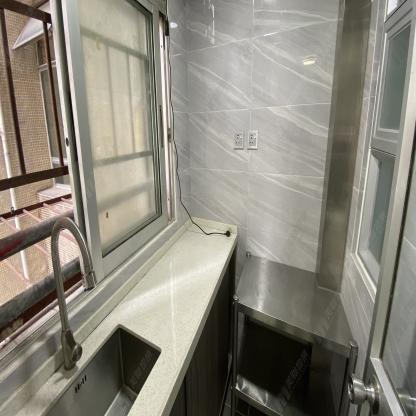Faucet: (44, 213, 95, 367)
Sink: (42, 320, 165, 416)
